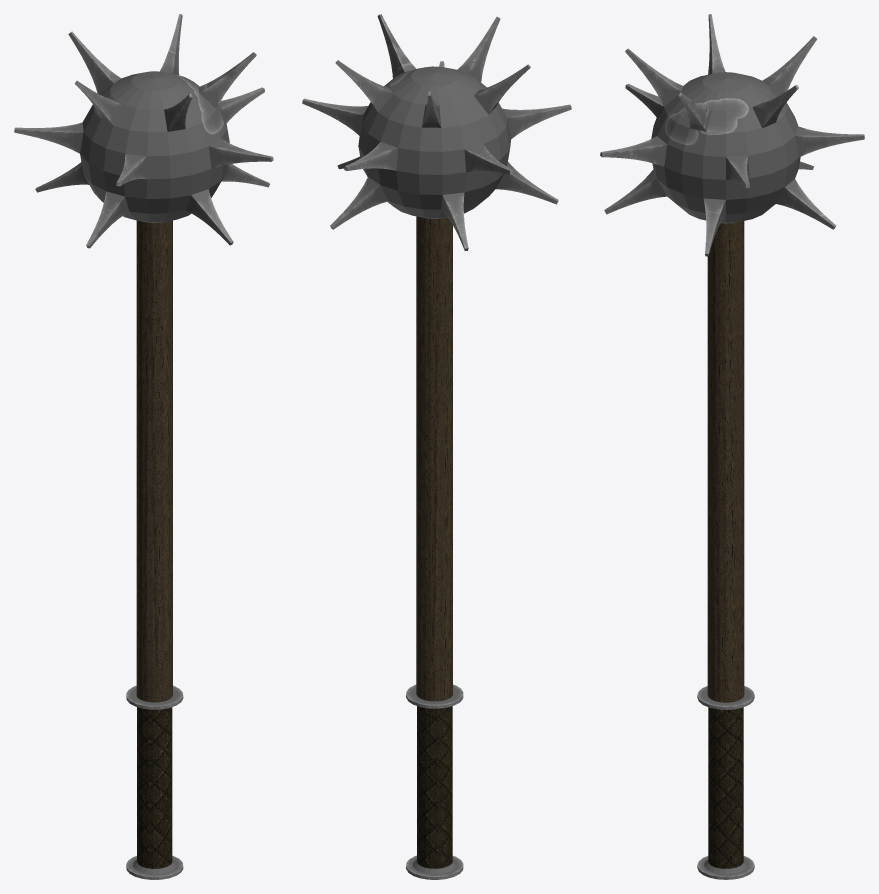
The model's file is Morgenstern.fbx.
3 renders of one model, left to right at view 1: azimuth 30°, elevation 25°; view 2: azimuth 150°, elevation 25°; view 3: azimuth 270°, elevation 25°, orthographic.
Visible parts, largest first — view 1: Sphere, handle; view 2: Sphere, handle; view 3: handle, Sphere.
Boxes of the visible parts, x1=… form: Sphere: x1=14, y1=14, x2=273, y2=248; handle: x1=126, y1=220, x2=183, y2=879; Sphere: x1=302, y1=14, x2=571, y2=250; handle: x1=406, y1=216, x2=463, y2=879; handle: x1=697, y1=221, x2=754, y2=879; Sphere: x1=600, y1=14, x2=864, y2=256.
Size of the model in its own units: 20.82 by 70.47 by 20.82.
Materials: 1 (1 with a texture image).
